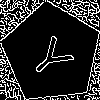Y: (26, 28, 82, 84)
